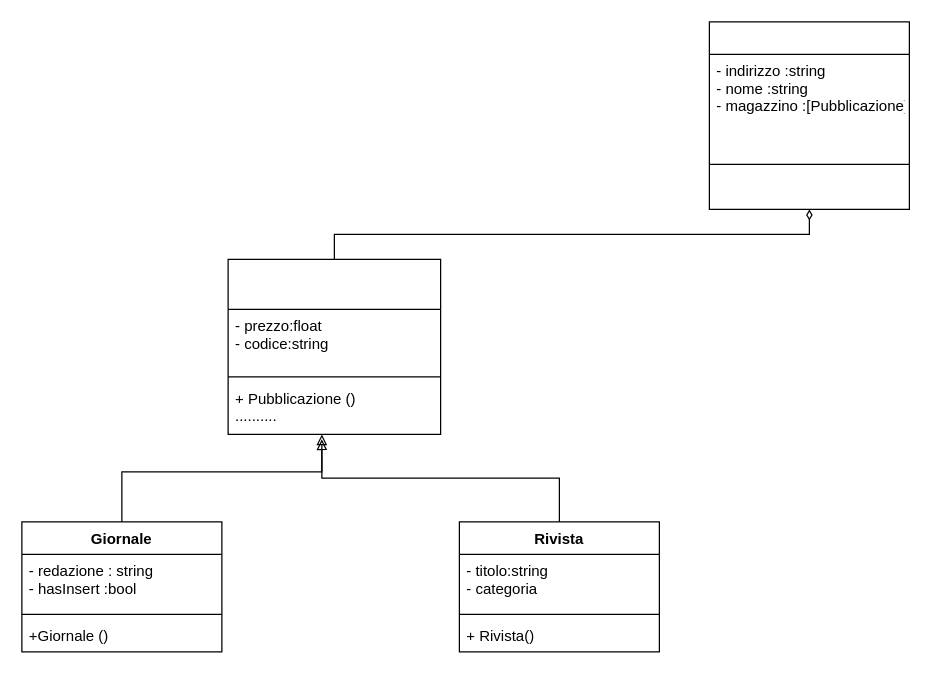
Image size: 931x678. Some labels were removed from this diagram. Here are the shapes that lost their labels. From the top down, the box of each, then its label:
(708, 21, 909, 209): Edicola
(227, 258, 441, 434): <<abstract>> Pubblicazione
